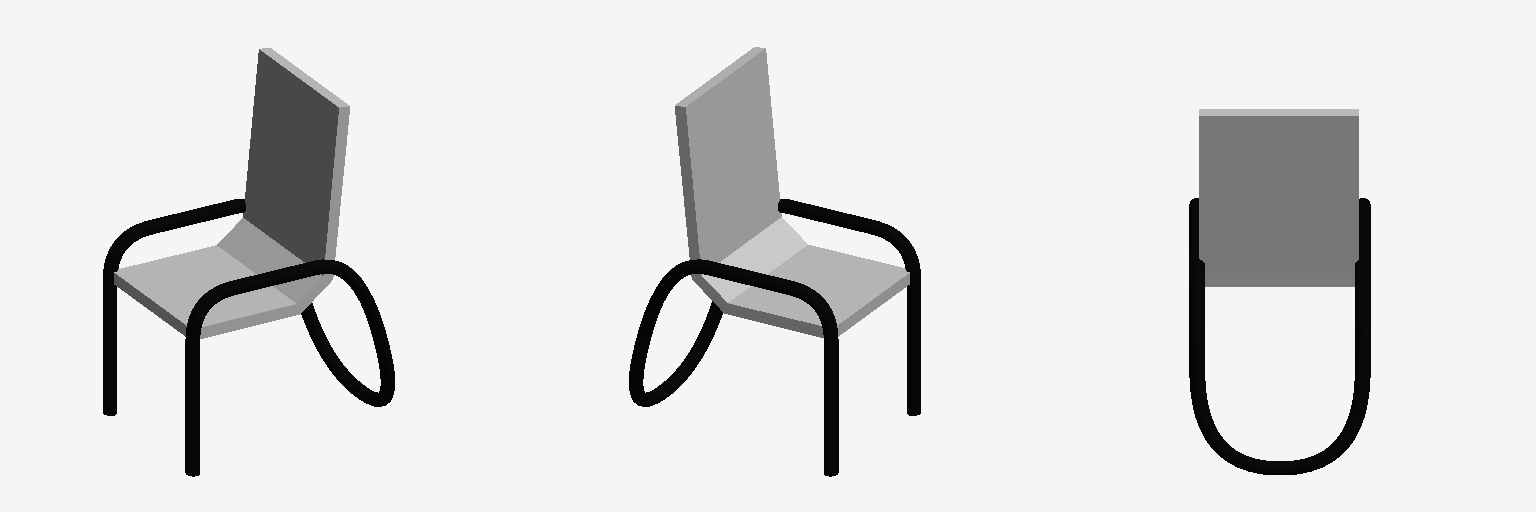
File: Chair.obj
The picture shows the model from 3 angles: view 1: azimuth 30°, elevation 25°; view 2: azimuth 150°, elevation 25°; view 3: azimuth 270°, elevation 25°; orthographic projection.
Visible parts, largest first — view 1: stol1.004_Plane.169; view 2: stol1.004_Plane.169; view 3: stol1.004_Plane.169.
Part boxes in pixels (x1,y1,x2,y2): stol1.004_Plane.169: (103, 48, 394, 476); stol1.004_Plane.169: (629, 47, 920, 476); stol1.004_Plane.169: (1189, 109, 1370, 474).
Size of the model in its own units: 0.7586 by 1.1 by 0.5374.